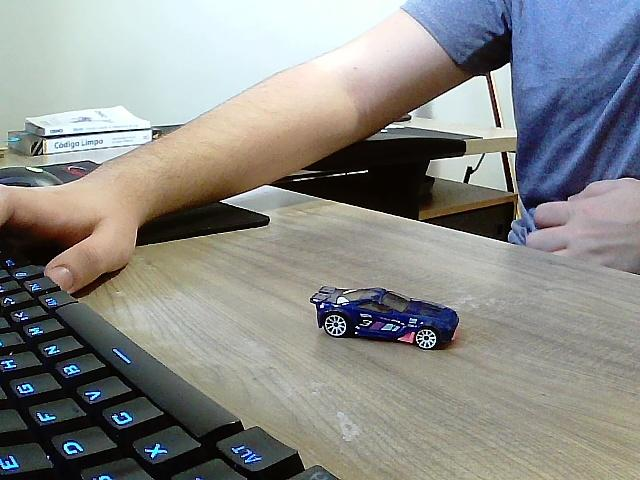Carro: (313, 288, 460, 351)
